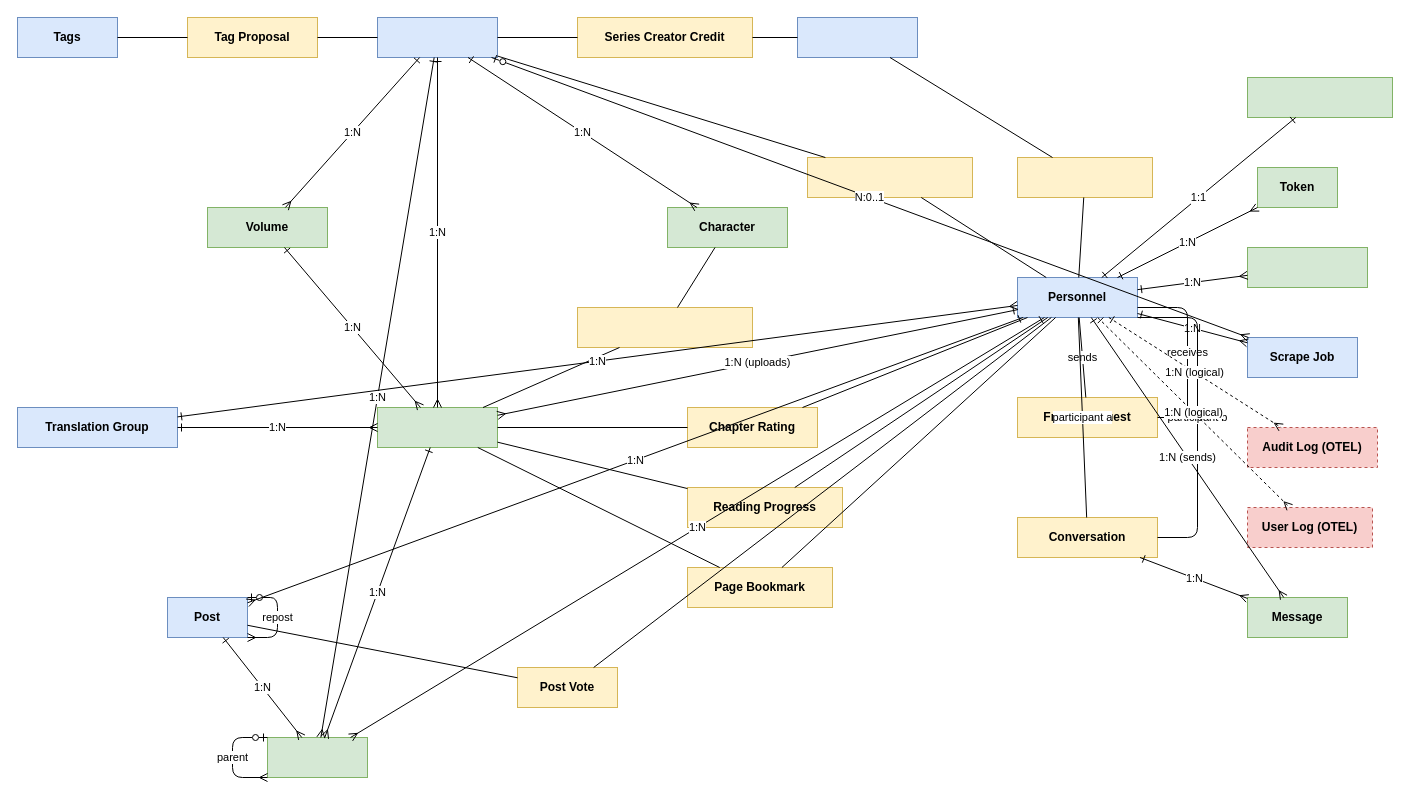
Some shapes in this 1410 by 804 pixel diagram are drawn without their labels. Here are the shapes that lost their labels. From the top down, the centre of each, then its label:
At [437,37]: "Series".
At [857,37]: "Creator".
At [1319,97]: "User Preference".
At [889,177]: "Series User Record".
At [1084,177]: "Creator Follow".
At [1307,267]: "Notification".
At [664,327]: "Character Appearance".
At [437,427]: "Chapter".
At [317,757]: "Comment".
